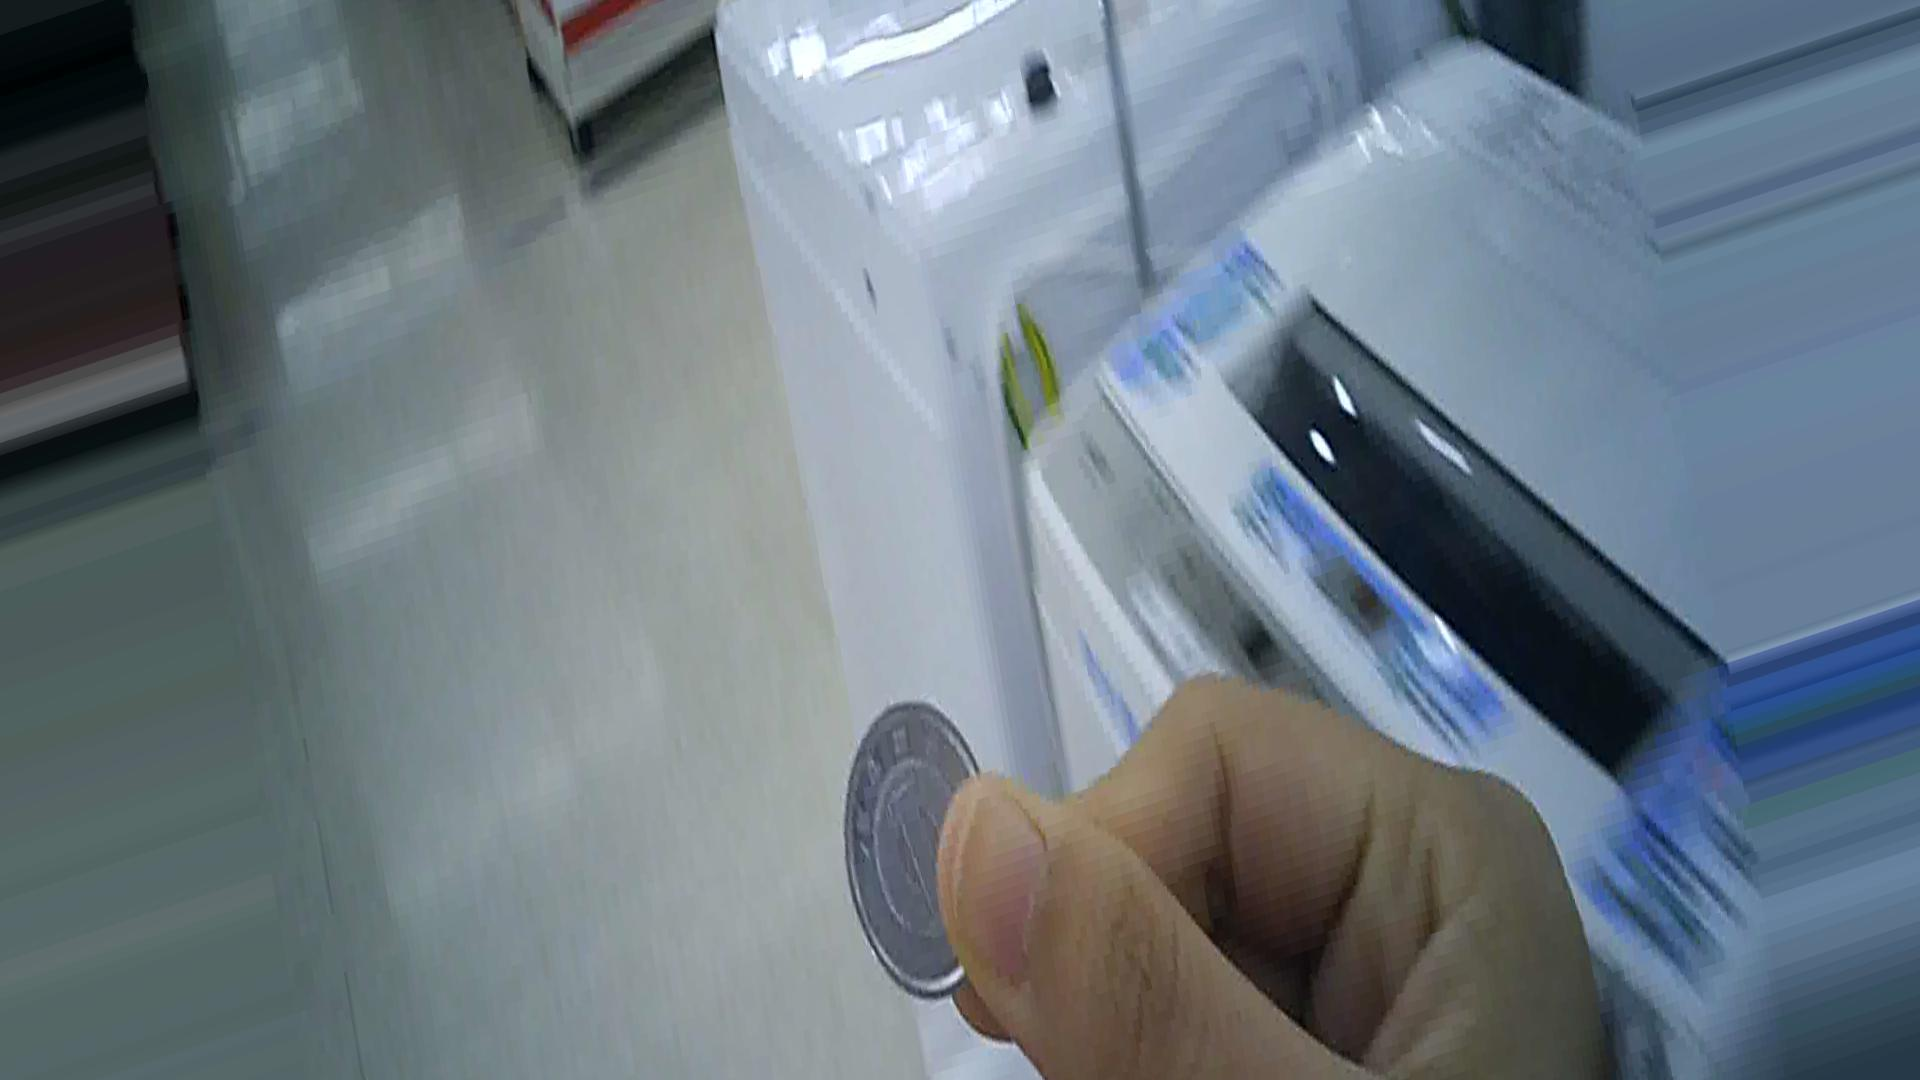1 Yen: (828, 711, 1043, 1042)
